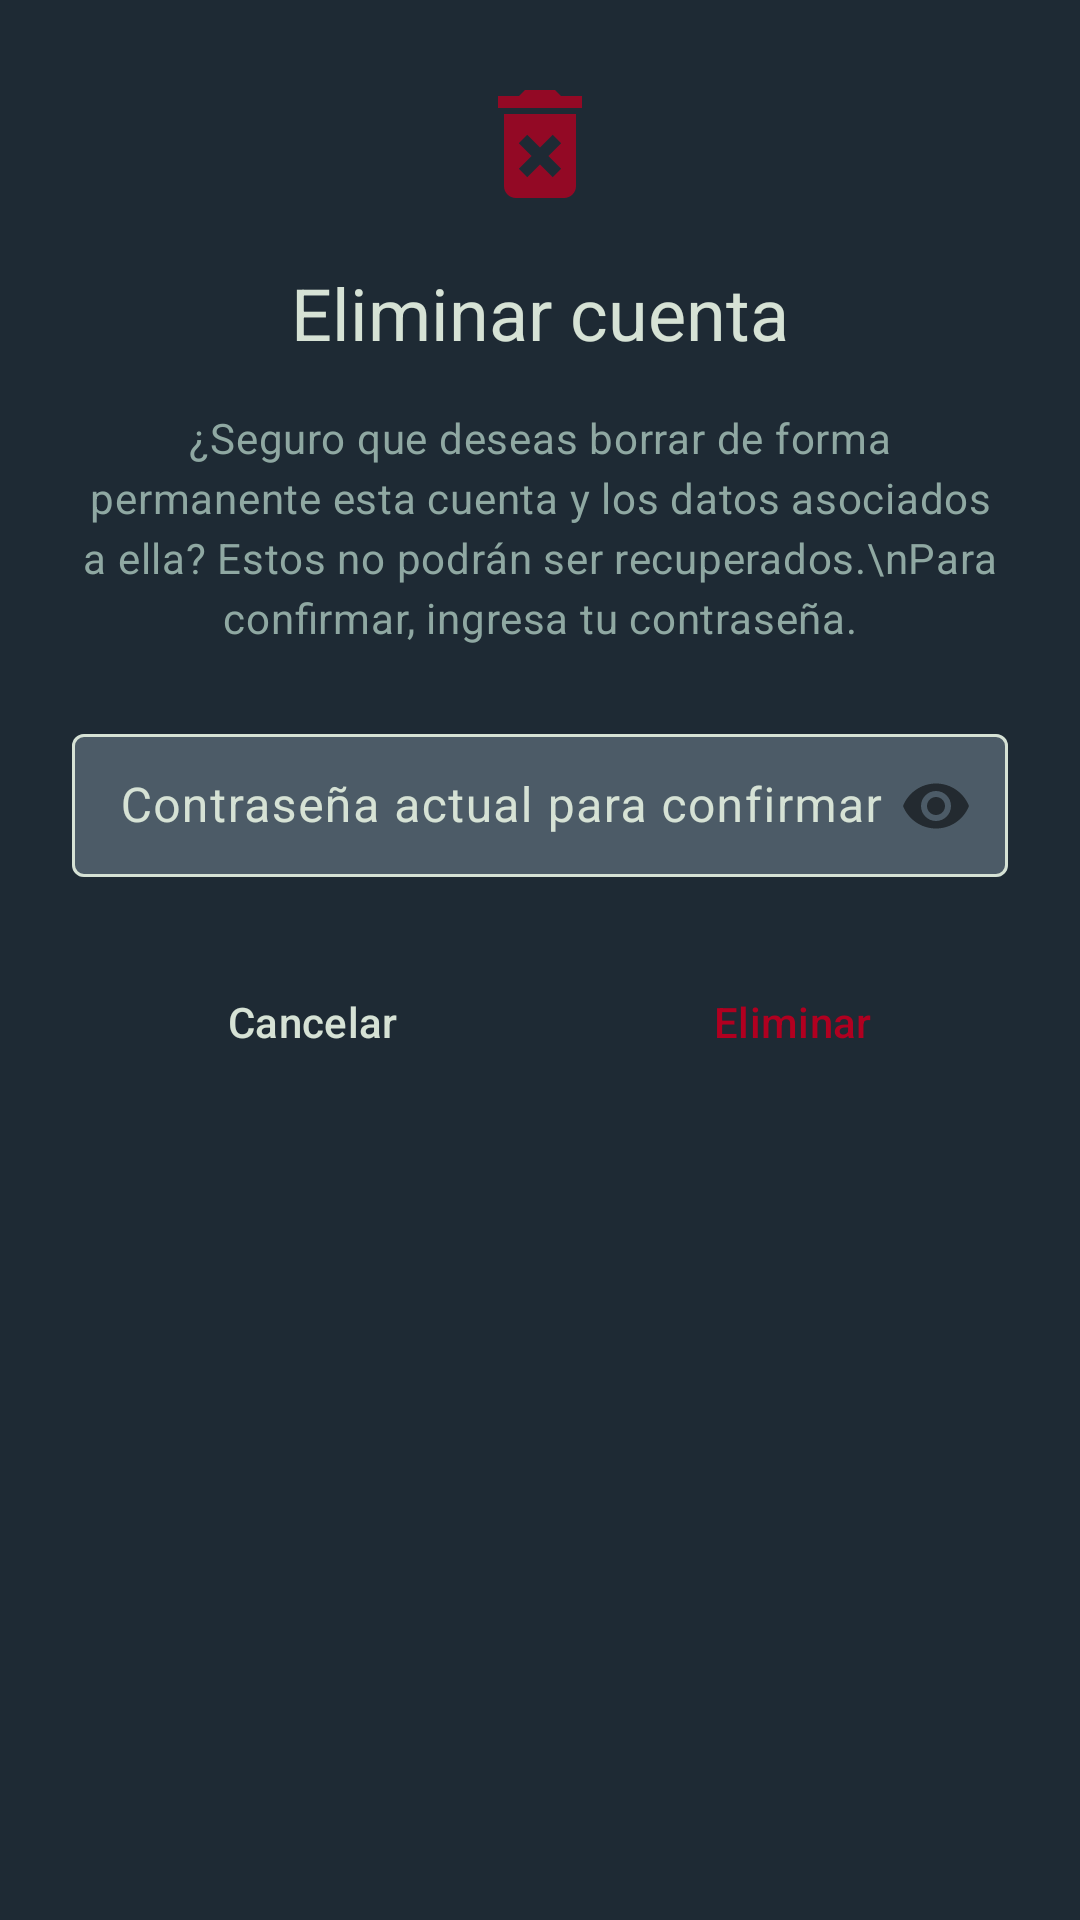

Icons on this 1080 x 1920 Android screen, each with the point to tap as point (x, y):
delete forever: point (540, 144)
